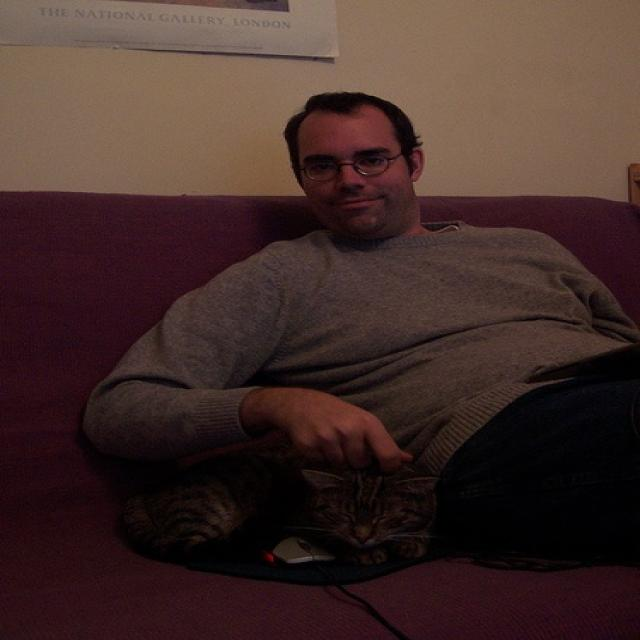cat: (113, 431, 452, 576)
sofa: (2, 191, 635, 637)
